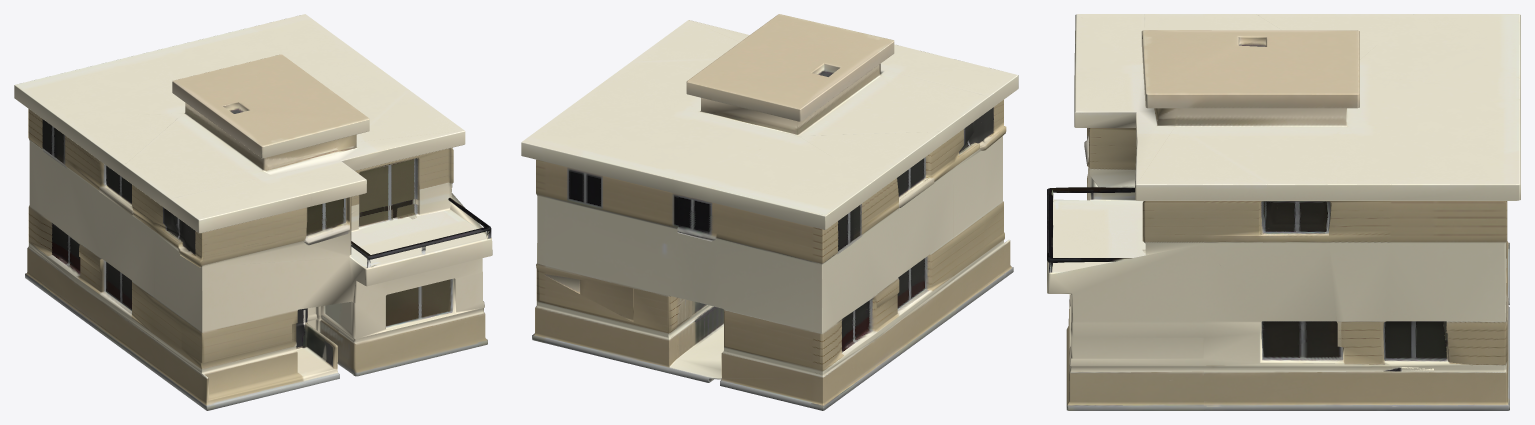
The model's file is bld_556597974.glb.
The picture shows the model from 3 angles, left to right: view 1: azimuth 30°, elevation 25°; view 2: azimuth 150°, elevation 25°; view 3: azimuth 270°, elevation 25°; orthographic projection. The views are drawn at different scales.
Bounding box in the file's own units: 1.62 × 1.19 × 1.9.
1 material, 1 textured.
